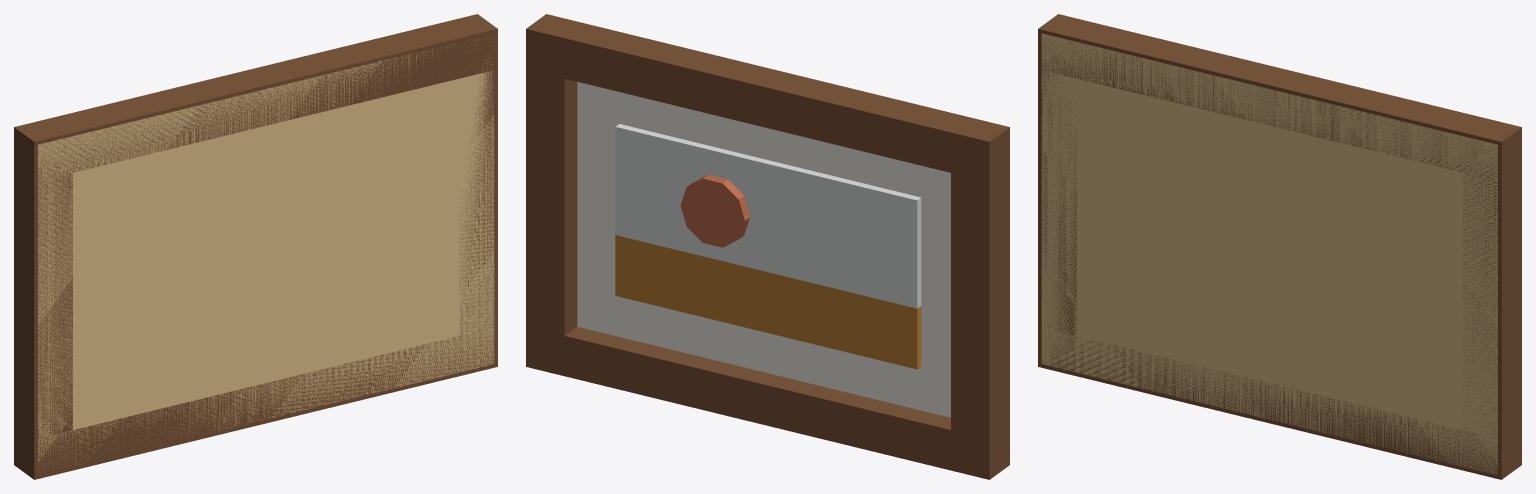
Rendered from SM_LPI_Decor_Picture_02.fbx.
3 views of the same model, side by side, from view 1: azimuth 30°, elevation 25°; view 2: azimuth 150°, elevation 25°; view 3: azimuth 330°, elevation 25° (orthographic).
Visible parts, largest first — view 1: SM_LPI_Decor_Picture_02; view 2: SM_LPI_Decor_Picture_02; view 3: SM_LPI_Decor_Picture_02.
Boxes of the visible parts, x1=… form: SM_LPI_Decor_Picture_02: x1=14, y1=14, x2=497, y2=479; SM_LPI_Decor_Picture_02: x1=526, y1=14, x2=1009, y2=479; SM_LPI_Decor_Picture_02: x1=1038, y1=14, x2=1521, y2=479.
Bounding box in the file's own units: 0.66 × 0.46 × 0.05.
